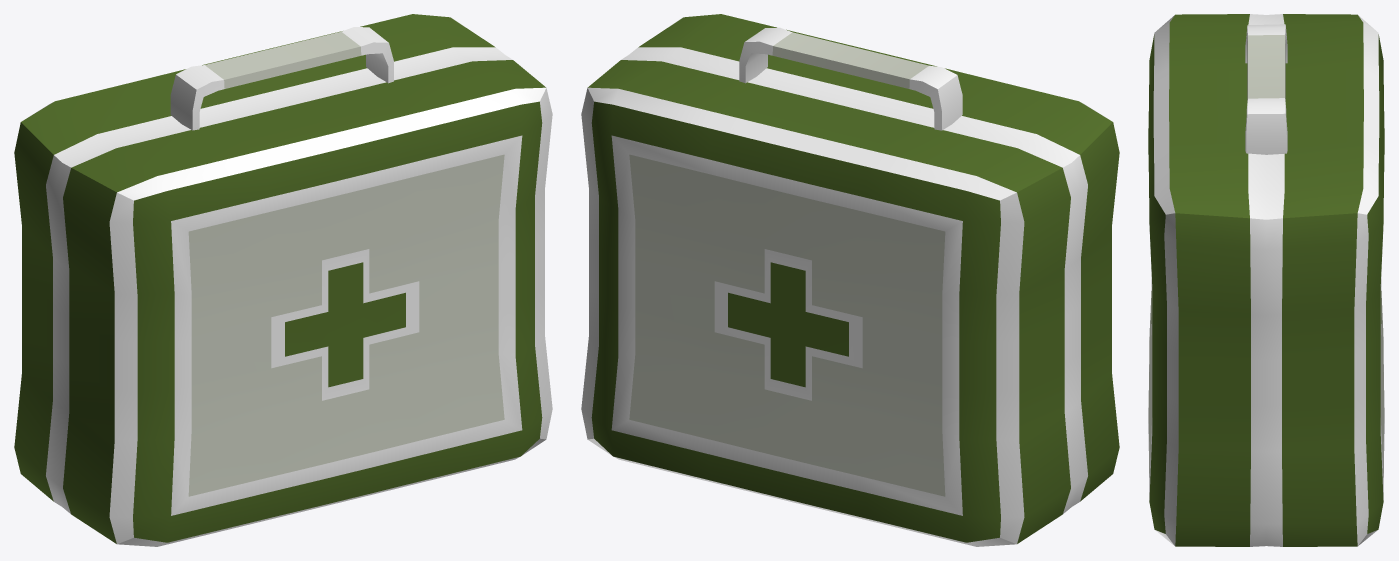
The model's file is health.glb.
3 views of the same model, side by side, from view 1: azimuth 30°, elevation 25°; view 2: azimuth 150°, elevation 25°; view 3: azimuth 270°, elevation 25° (orthographic). The views are drawn at different scales.
Visible parts, largest first — view 1: Health; view 2: Health; view 3: Health.
Boxes of the visible parts, x1=… form: Health: x1=14, y1=14, x2=552, y2=546; Health: x1=581, y1=14, x2=1119, y2=546; Health: x1=1148, y1=14, x2=1384, y2=546.
Size of the model in its own units: 0.861 by 0.7376 by 0.4039.
